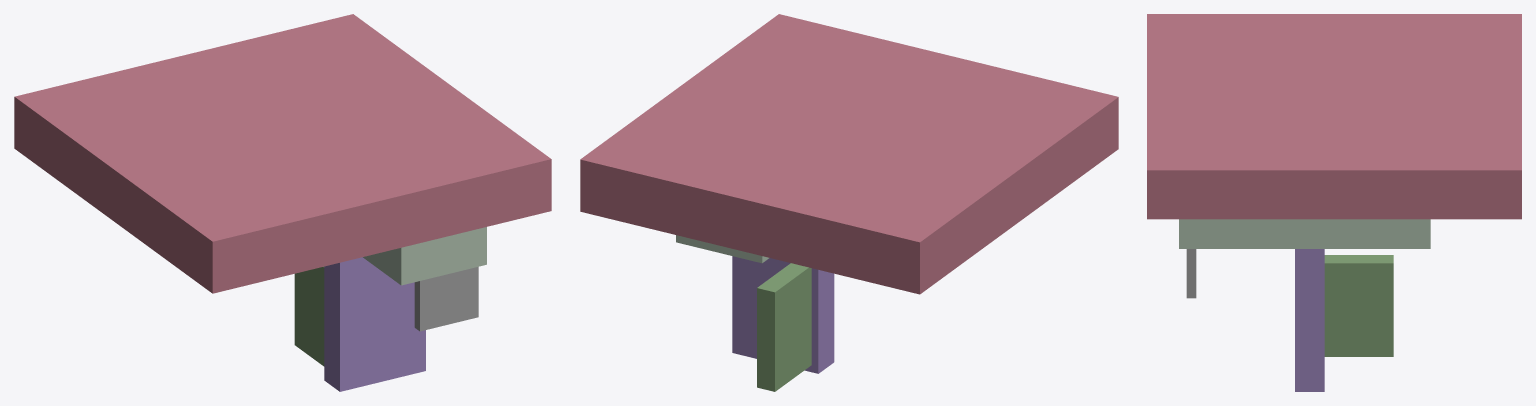
3 views of the same model, side by side, from view 1: azimuth 30°, elevation 25°; view 2: azimuth 150°, elevation 25°; view 3: azimuth 270°, elevation 25° (orthographic). The views are drawn at different scales.
Parts seen in each view (by area): view 1: world; view 2: world; view 3: world.
Boxes of the visible parts, box(x1,y1,x2,y2) form: world: box(14, 14, 551, 391); world: box(580, 14, 1118, 391); world: box(1147, 14, 1521, 391).
Bounding box in the file's own units: 7.5 × 5.45 × 7.6.
